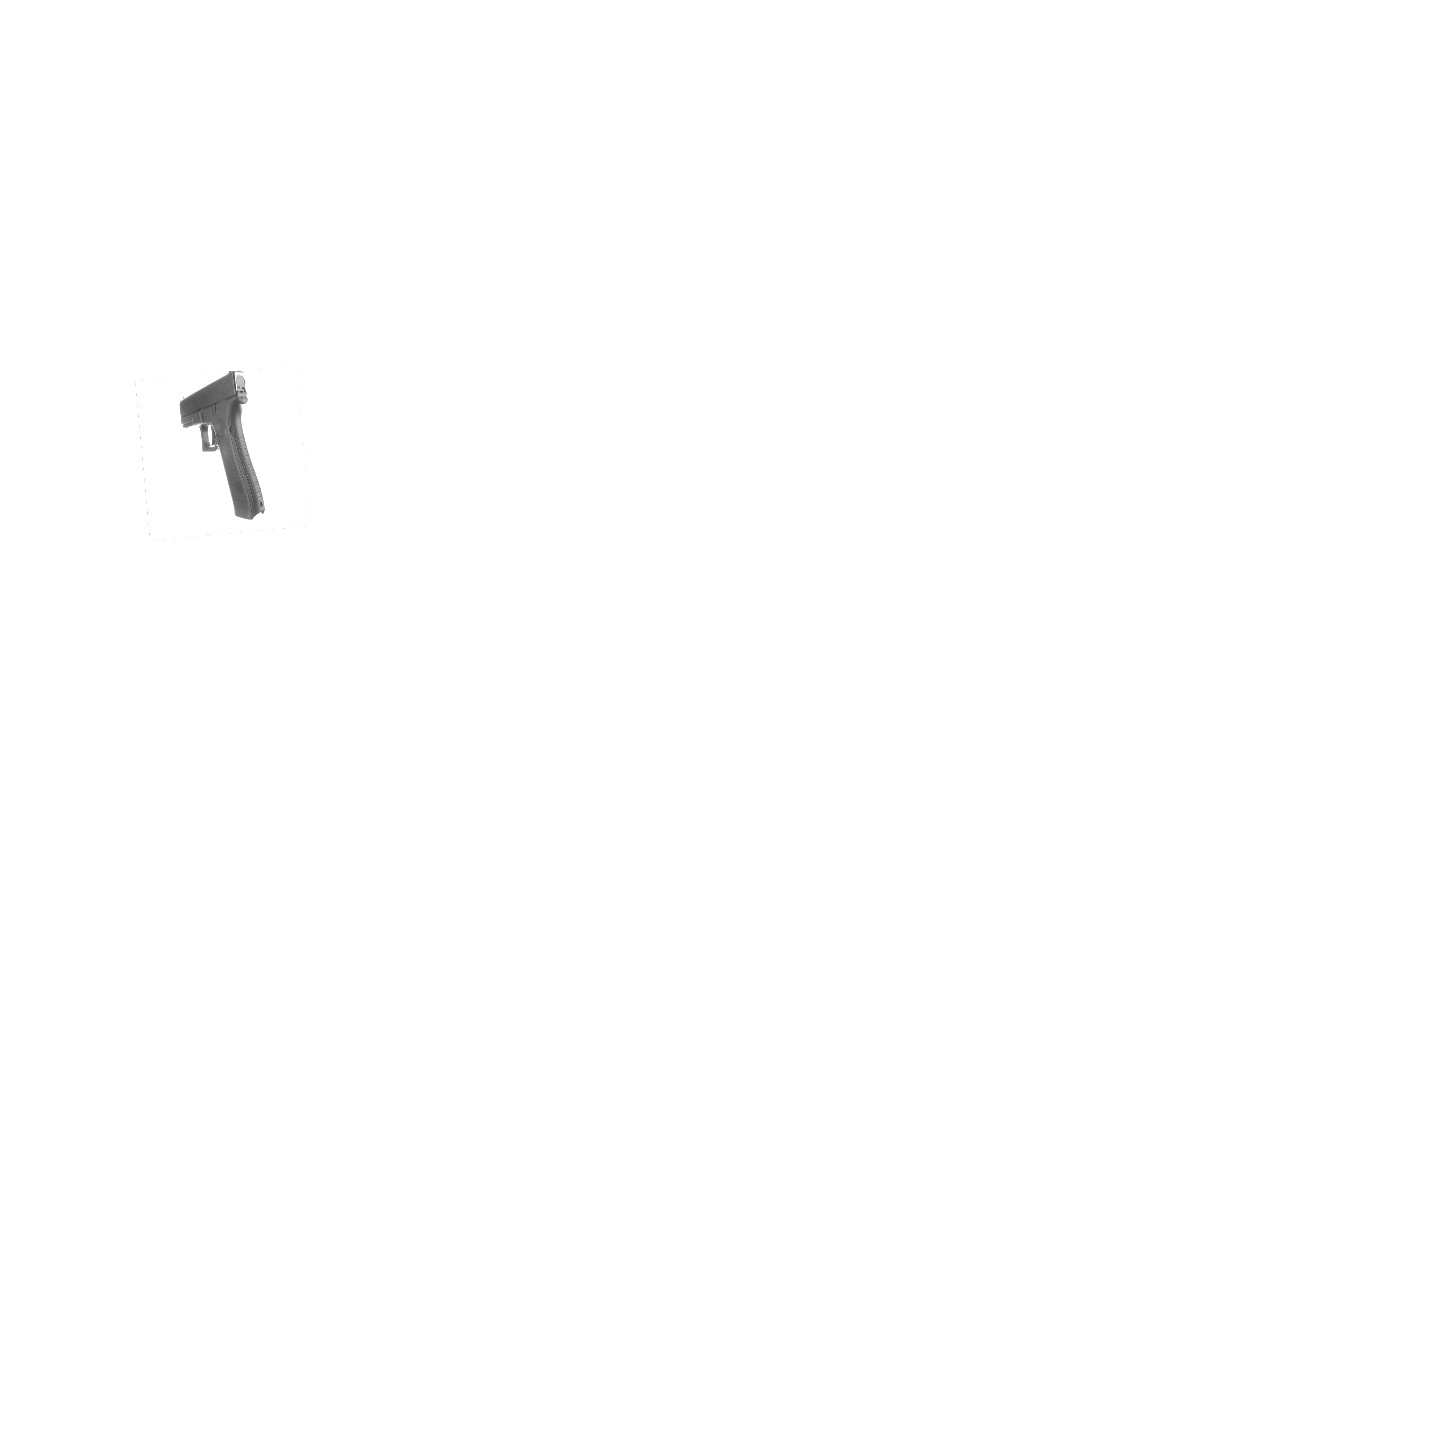gun: (180, 371, 266, 520)
